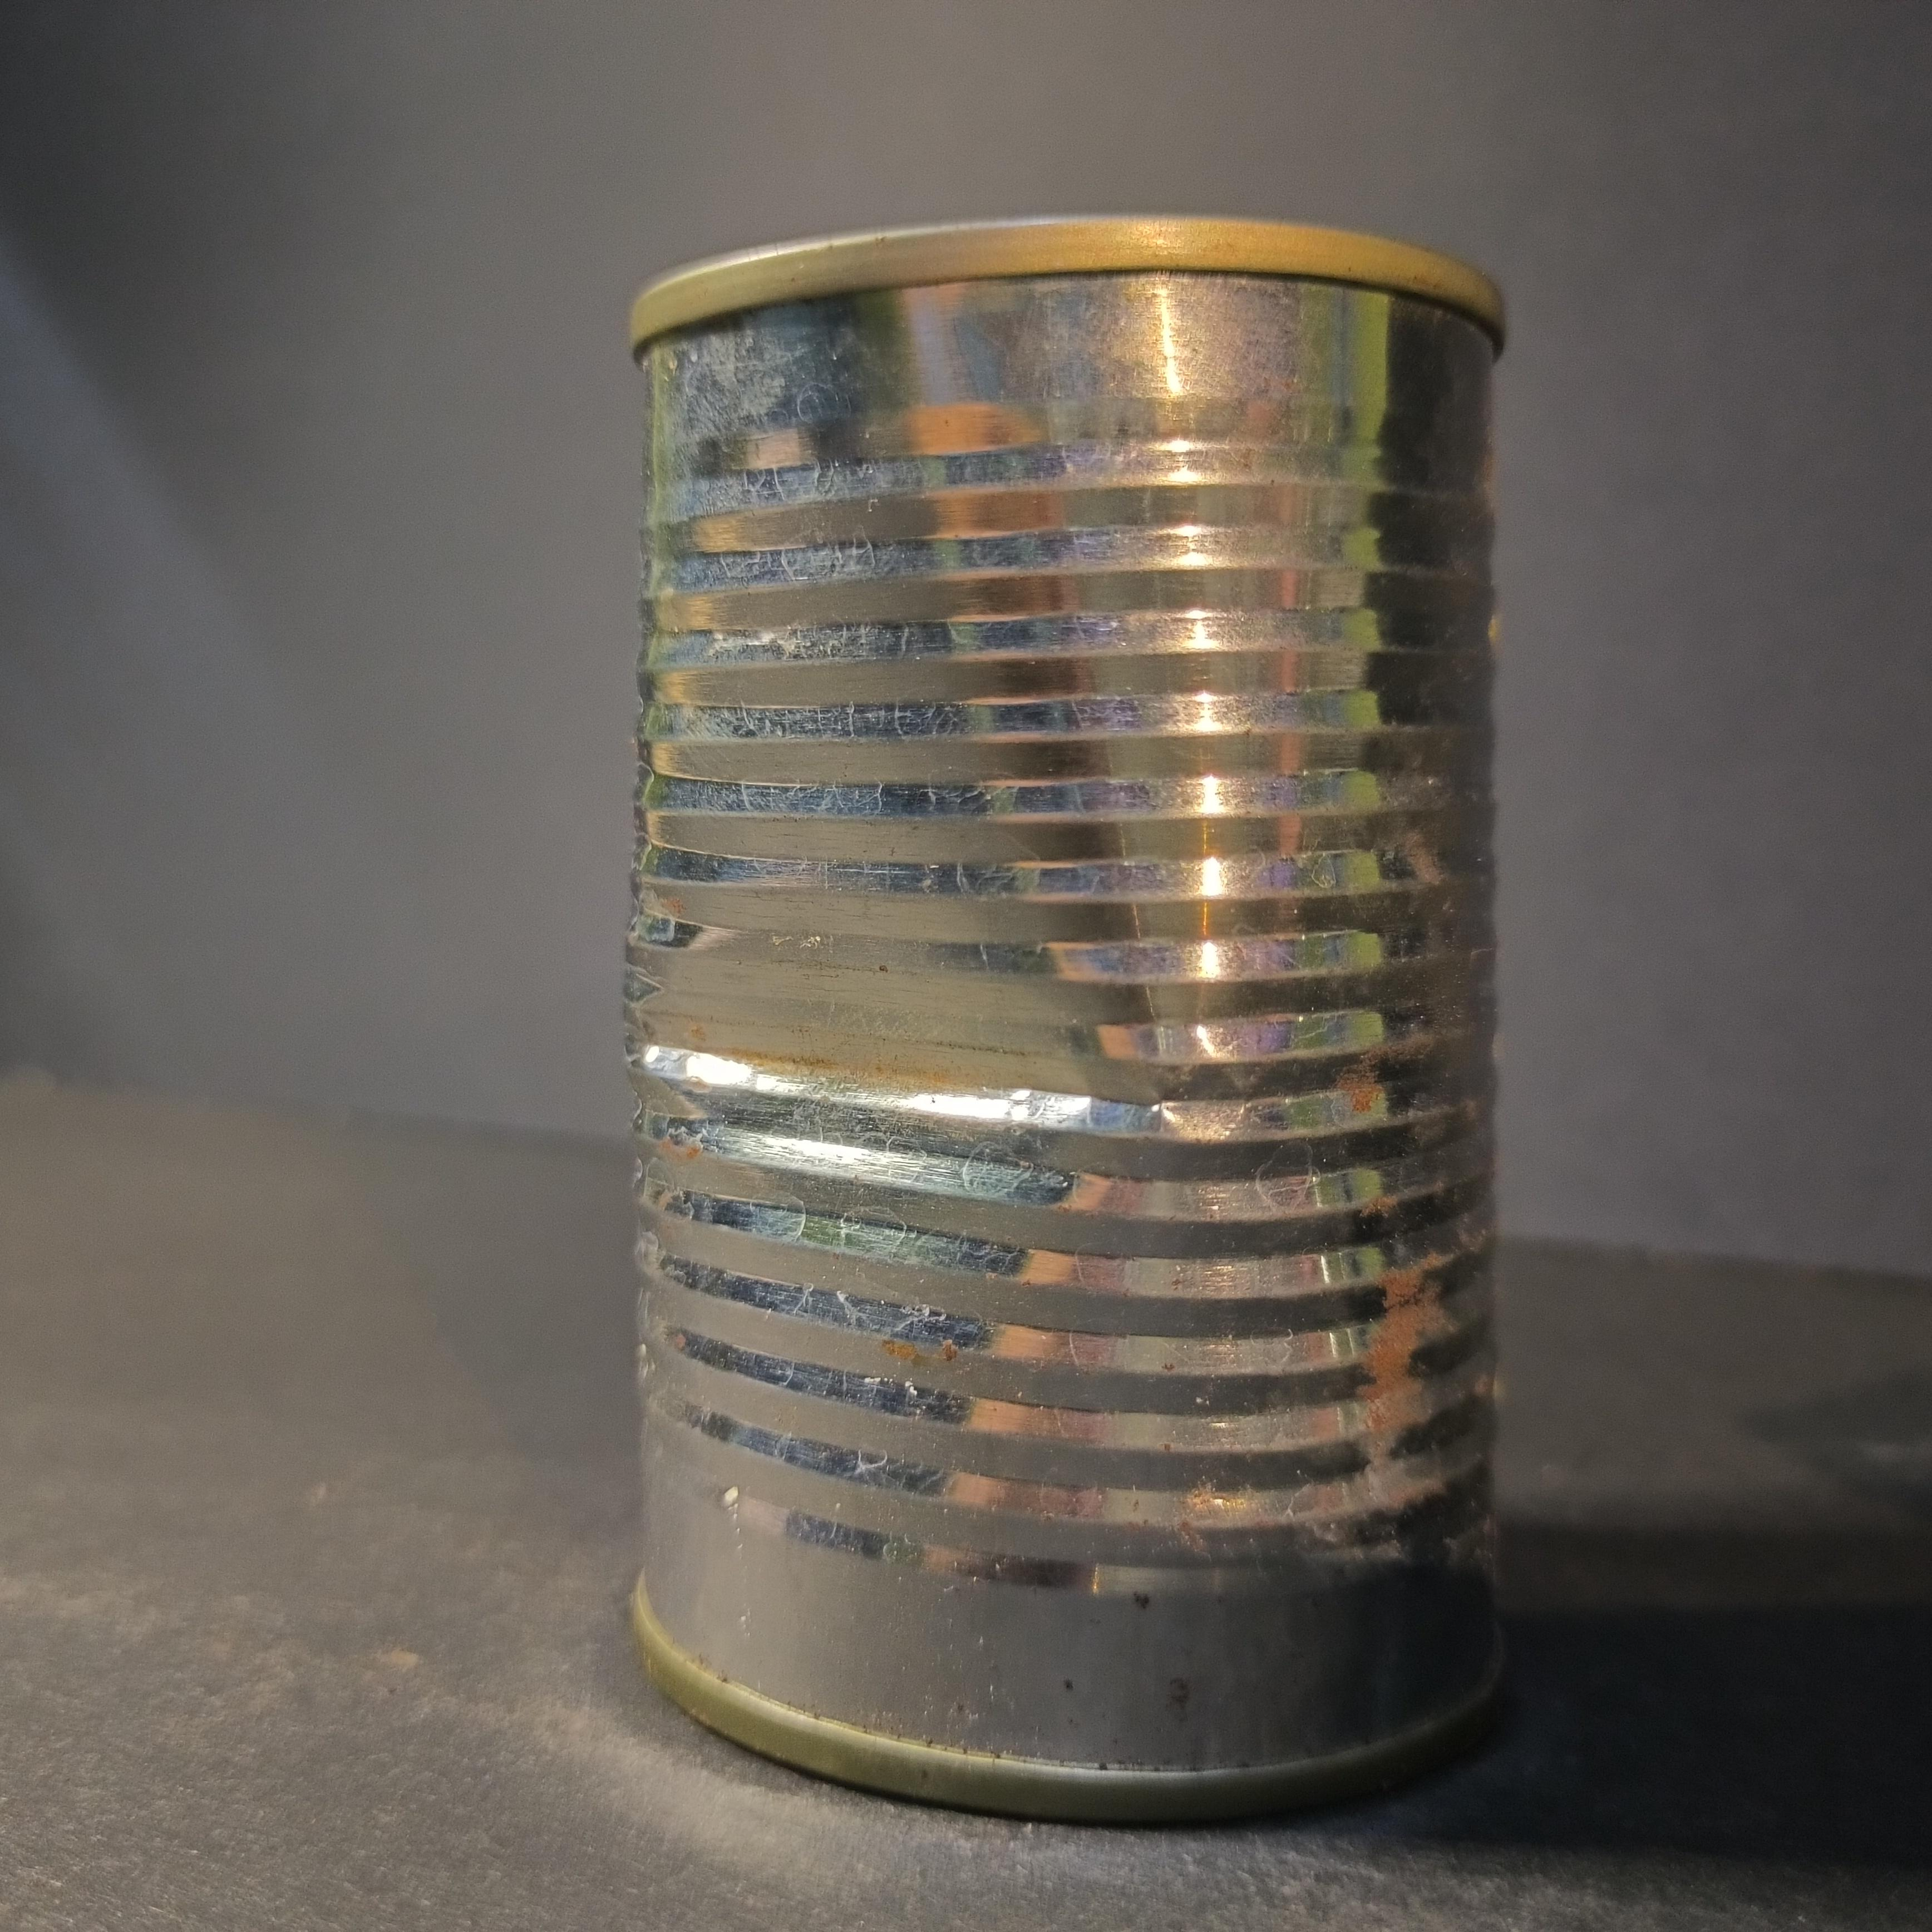Minor Defect: (619, 198, 1529, 1842)
